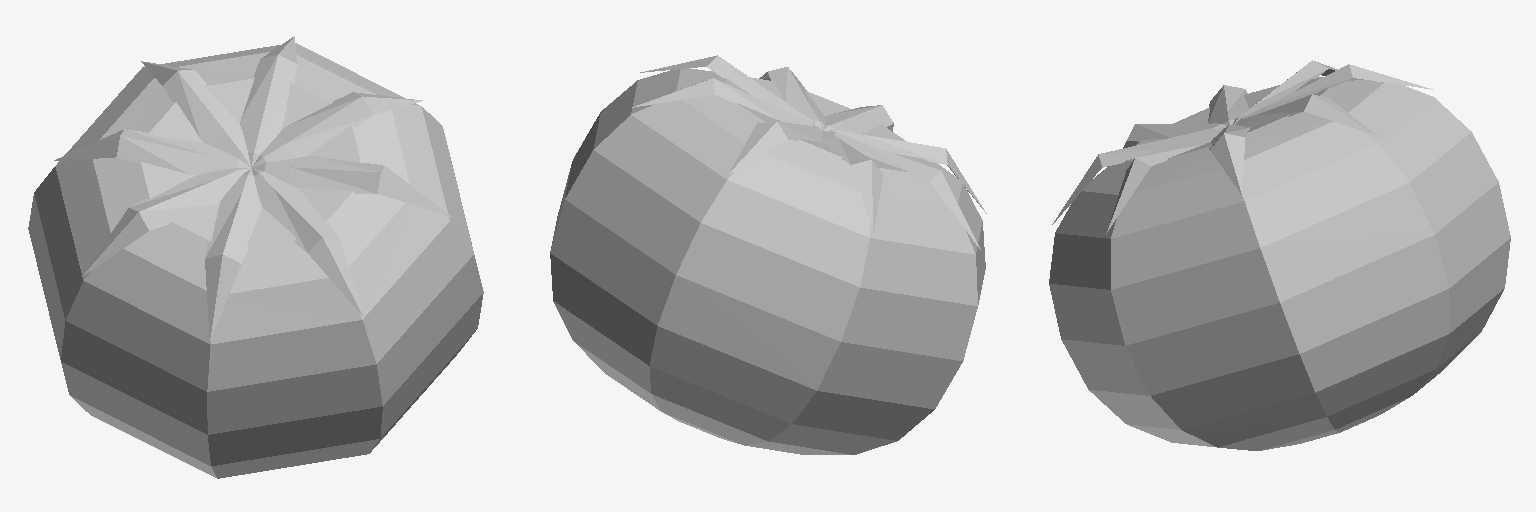
3 views of the same model, side by side, from view 1: azimuth 30°, elevation 25°; view 2: azimuth 150°, elevation 25°; view 3: azimuth 270°, elevation 25° (orthographic).
Visible parts, largest first — view 1: polygon_02, polygon_0; view 2: polygon_02, polygon_0; view 3: polygon_02, polygon_0.
Part boxes in pixels (bbox=[...]): polygon_02: bbox=[28, 36, 483, 477]; polygon_0: bbox=[207, 188, 483, 478]; polygon_02: bbox=[550, 55, 986, 454]; polygon_0: bbox=[806, 91, 906, 141]; polygon_02: bbox=[1052, 60, 1510, 450]; polygon_0: bbox=[1049, 139, 1214, 446].
Size of the model in its own units: 12.91 by 11.11 by 12.89.